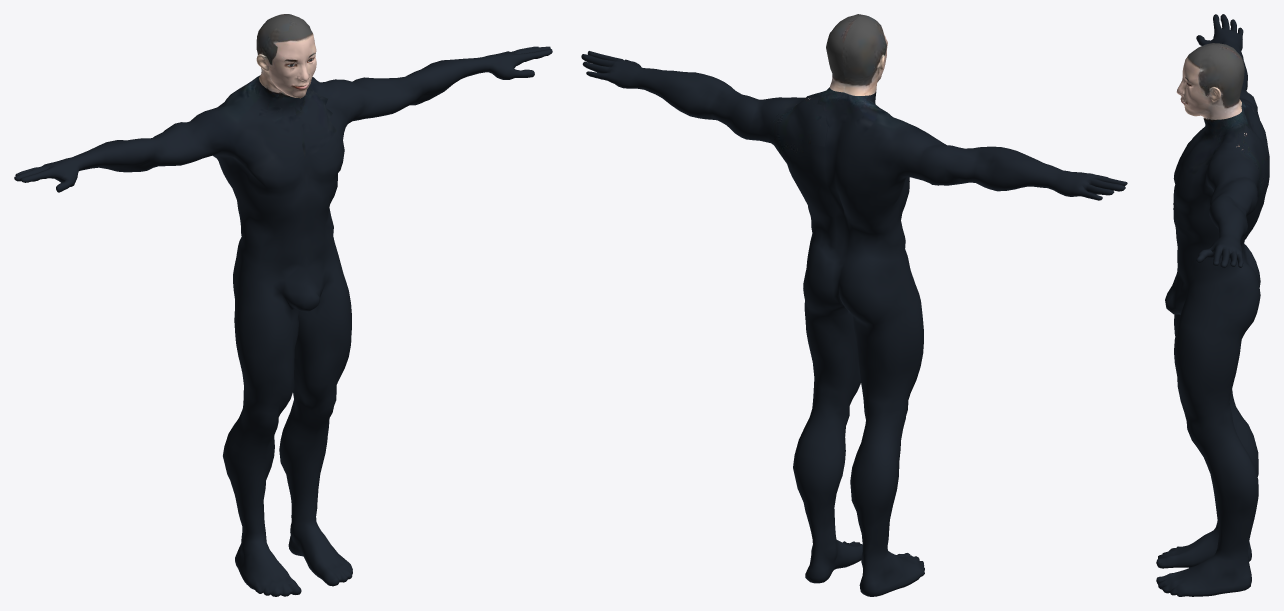
The model's file is Unkochan.fbx.
3 renders of one model, left to right at view 1: azimuth 30°, elevation 25°; view 2: azimuth 150°, elevation 25°; view 3: azimuth 270°, elevation 25°, orthographic. The views are drawn at different scales.
Visible parts, largest first — view 1: Body_Mesh; view 2: Body_Mesh; view 3: Body_Mesh.
Boxes of the visible parts, x1,y1,x2,y2 form: Body_Mesh: (14,14,552,596); Body_Mesh: (581,14,1127,596); Body_Mesh: (1156,14,1269,596).
Size of the model in its own units: 184 by 182 by 35.25.
